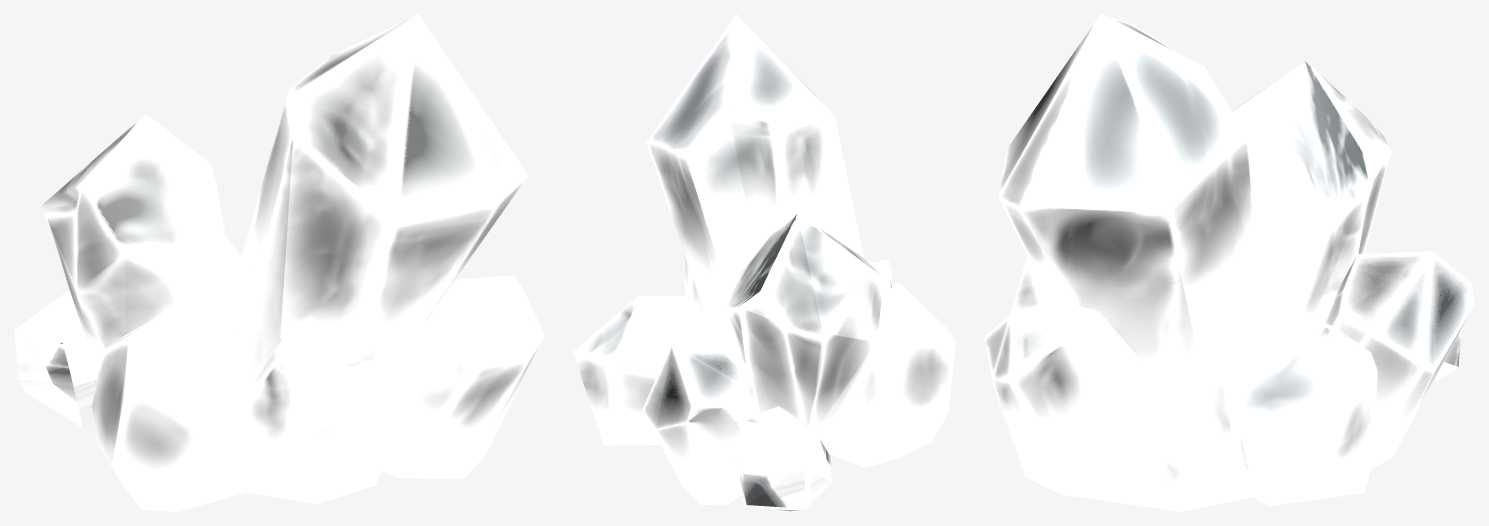
Rendered from crystal_chunk_002.fbx.
The picture shows the model from 3 angles, left to right: view 1: azimuth 30°, elevation 25°; view 2: azimuth 150°, elevation 25°; view 3: azimuth 270°, elevation 25°; orthographic projection. The views are drawn at different scales.
Visible parts, largest first — view 1: crystal_chunk.002; view 2: crystal_chunk.002; view 3: crystal_chunk.002.
Boxes of the visible parts, x1,y1,x2,y2 form: crystal_chunk.002: (14, 14, 544, 511); crystal_chunk.002: (573, 14, 955, 511); crystal_chunk.002: (984, 14, 1474, 511).
Bounding box in the file's own units: 12.17 × 13.58 × 12.22.
